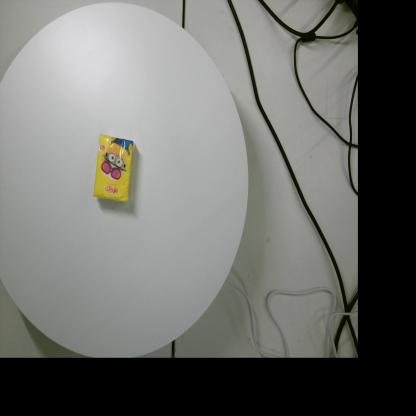Tissue: (92, 133, 135, 203)
